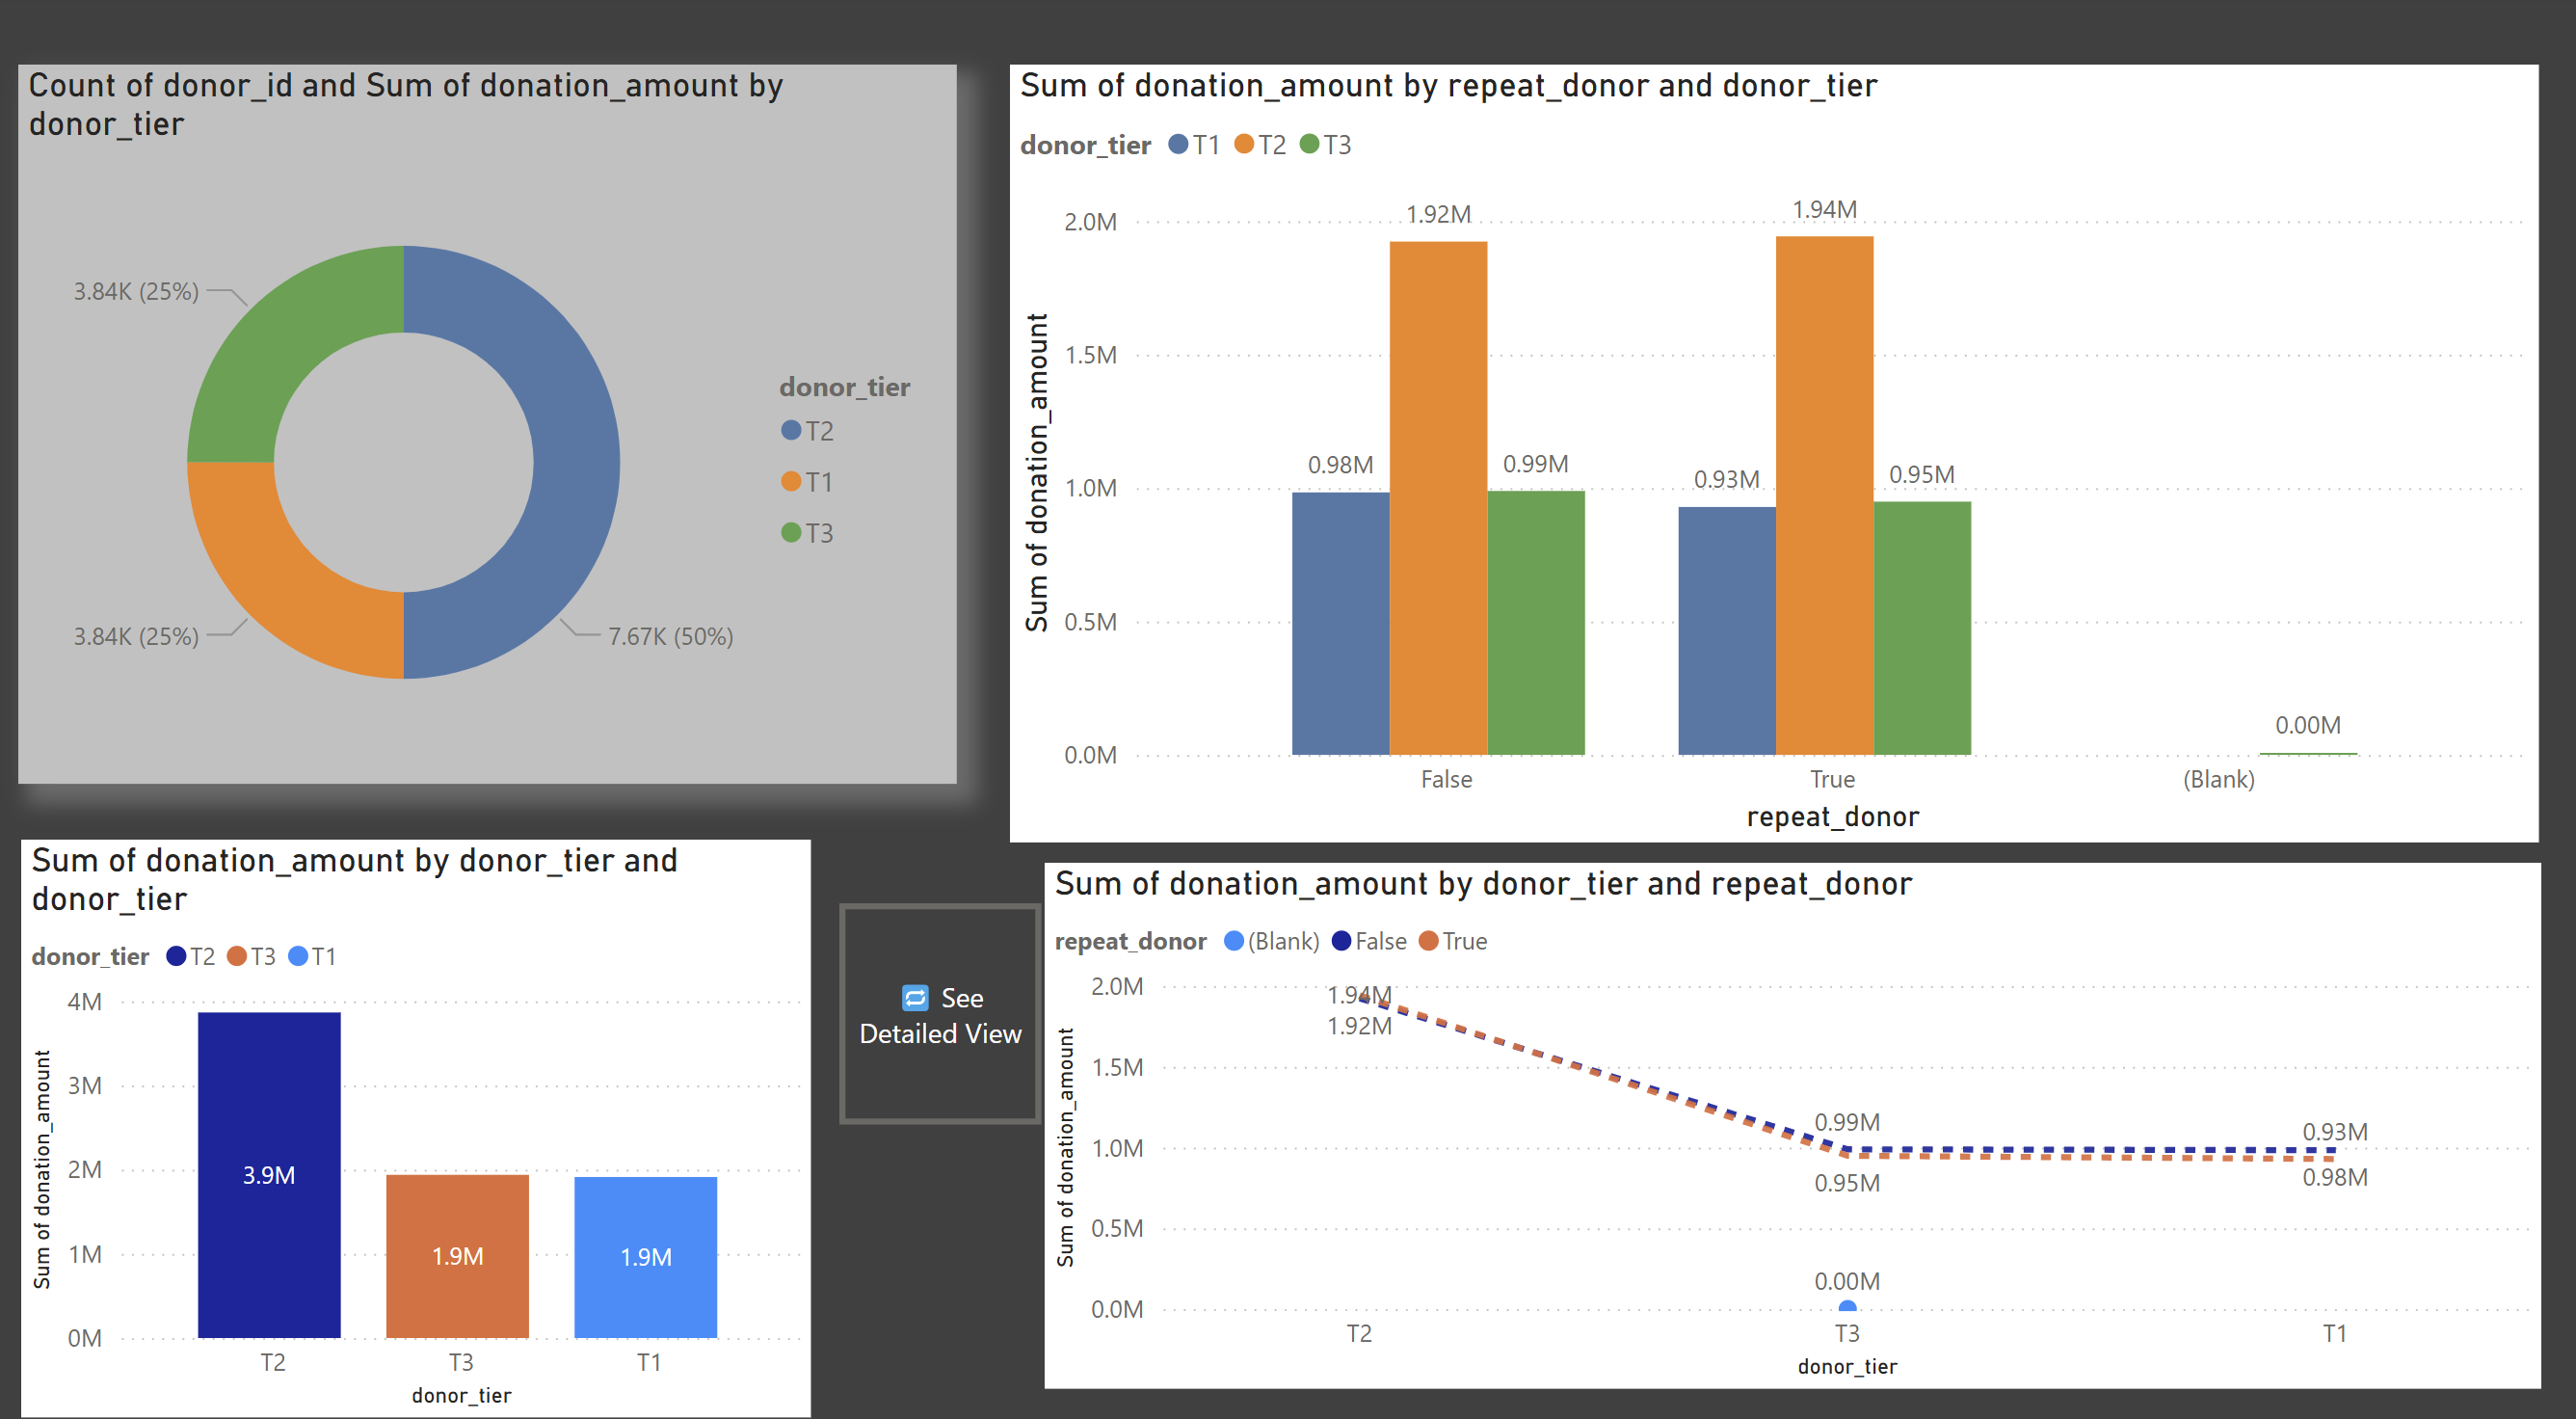

The page's visual inventory and layout, read from the dashboard file:
{"tool":"powerbi","page":{"name":"Duplicate of Monthly Donation Trend (Line Chart)","canvas":[1280,720],"ordinal":2},"visuals":[{"type":"lineChart","fields":{"Category":["cleaned_donor_data_for_powerbi.donor_tier"],"Y":["Sum(cleaned_donor_data_for_powerbi.donation_amount)"],"Series":["cleaned_donor_data_for_powerbi.repeat_donor"]},"box":[520.5,432.9,740.9,260.2],"z":0},{"type":"clusteredColumnChart","fields":{"Category":["cleaned_donor_data_for_powerbi.repeat_donor"],"Y":["Sum(cleaned_donor_data_for_powerbi.donation_amount)"],"Series":["cleaned_donor_data_for_powerbi.donor_tier"]},"box":[504.6,37.2,756.8,385.1],"z":2000},{"type":"donutChart","fields":{"Category":["cleaned_donor_data_for_powerbi.donor_tier"],"Y":["CountNonNull(cleaned_donor_data_for_powerbi.donor_id)"]},"box":[13.3,37.2,464.7,355.9],"z":3000},{"type":"columnChart","fields":{"Category":["cleaned_donor_data_for_powerbi.donor_tier"],"Y":["Sum(cleaned_donor_data_for_powerbi.donation_amount)"],"Series":["cleaned_donor_data_for_powerbi.donor_tier"]},"box":[14.3,421.2,391,286.1],"z":4000},{"type":"actionButton","box":[419.6,453,100.1,109.7],"z":8000}]}

Visuals, with their boxes in screenshot pixels (x1, y1, x2, y2), scaled from the page's 1280x720 canvas onto the 2576x1419 screenshot:
lineChart - cleaned_donor_data_for_powerbi.donor_tier x Sum(cleaned_donor_data_for_powerbi.donation_amount): x1=1048, y1=853, x2=2538, y2=1366
clusteredColumnChart - cleaned_donor_data_for_powerbi.repeat_donor x Sum(cleaned_donor_data_for_powerbi.donation_amount): x1=1016, y1=73, x2=2538, y2=832
donutChart - cleaned_donor_data_for_powerbi.donor_tier x CountNonNull(cleaned_donor_data_for_powerbi.donor_id): x1=27, y1=73, x2=962, y2=775
columnChart - cleaned_donor_data_for_powerbi.donor_tier x Sum(cleaned_donor_data_for_powerbi.donation_amount): x1=29, y1=830, x2=815, y2=1394
actionButton: x1=844, y1=893, x2=1046, y2=1109
